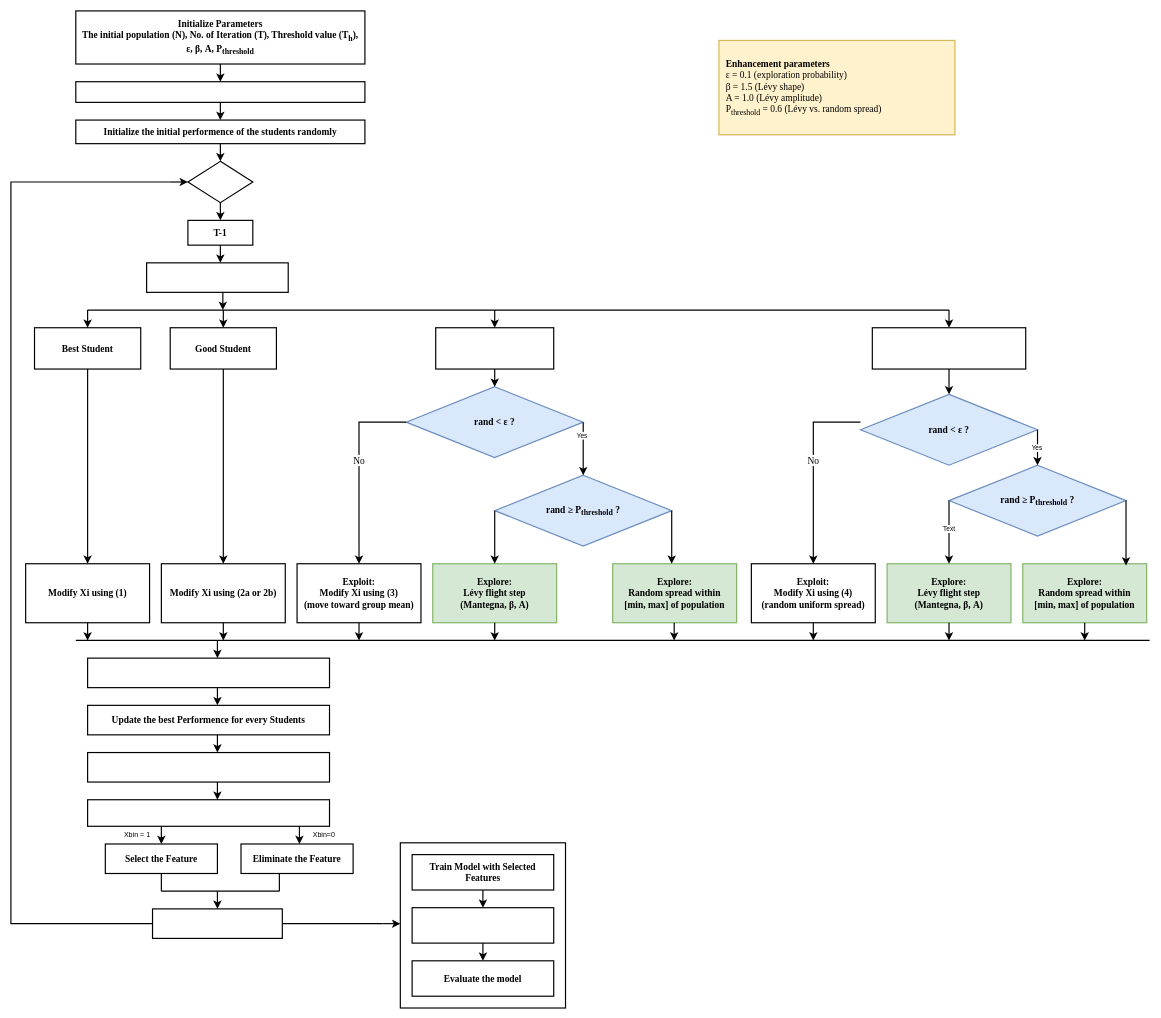
This 1161x1018 diagram has some shape labels left out. The box of each missing label's shape, as (x1, y1, x2, y2) in pixels:
Average Student: (435, 327, 554, 369)
Check Catagory of the Students: (146, 262, 289, 293)
Check the Error (E): (152, 908, 283, 939)
Compare the best fitness with the Threshold Value (T h ): (87, 752, 330, 782)
Evalute the Performence using (Xi) Benchmark Function: (87, 657, 330, 688)
Perform Binary Conversion (X bin ): (87, 799, 330, 827)
Select upper and lower bound for the solutions: (75, 81, 365, 103)
Students who try to improve randomly: (871, 327, 1026, 369)
T>0: (187, 160, 253, 203)
Test the Trained model: (411, 907, 554, 943)
